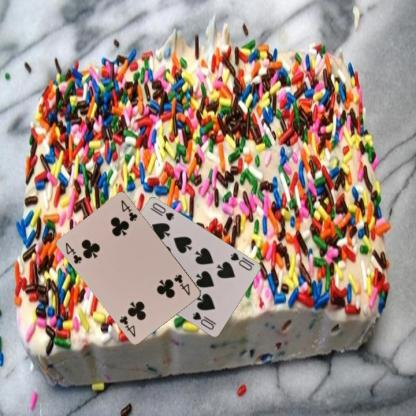10s: (228, 250, 253, 272)
4c: (63, 240, 84, 265), (172, 272, 191, 297)
